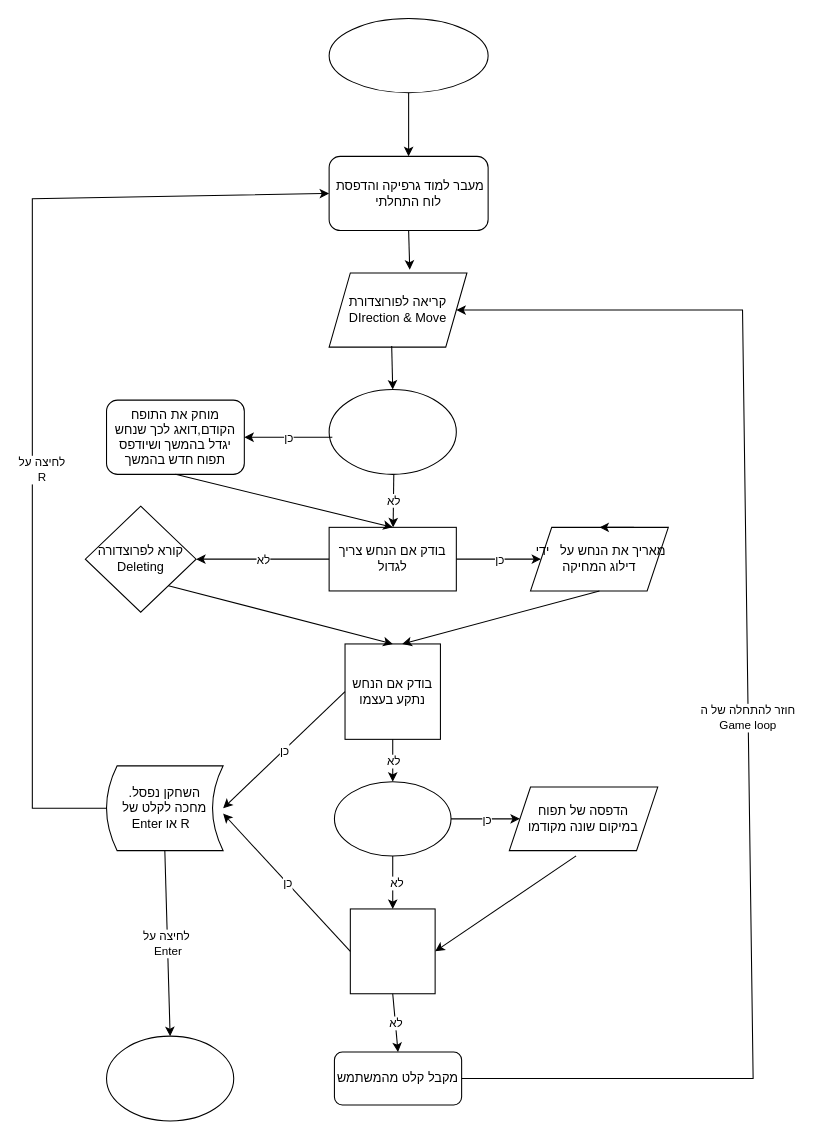
Some shapes in this 814 by 1139 pixel diagram are drawn without their labels. Here are the shapes that lost their labels. From the top down, the centre of each, then its label:
At pixel 408 55: "הדפסה של מסך פתיחה + המתנה ללחיצה על המקש Enter".
At pixel 392 431: "בודק אם נחש אכל תפוח".
At pixel 392 818: "בודק אם צריך להדפיס תפוח חדש".
At pixel 392 951: "בודק אם הנחש נתקע בקיר".
At pixel 169 1078: "המשחק נגמר ויוצאים התוכנית".
